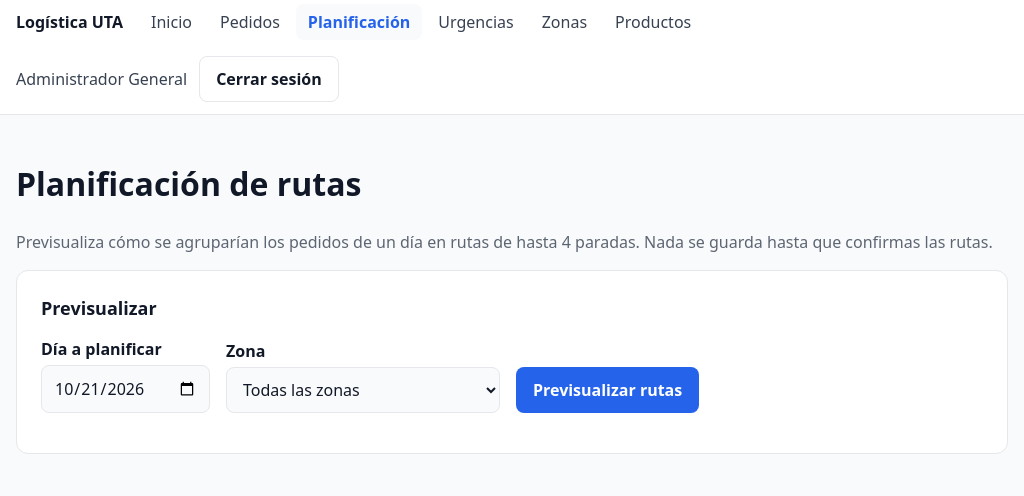
PlanningPage · previsualizar › exige elegir el día y no calcula sin él
Clear the date field labelled "Día a planificar" at [126, 389], box [41, 365, 210, 413]
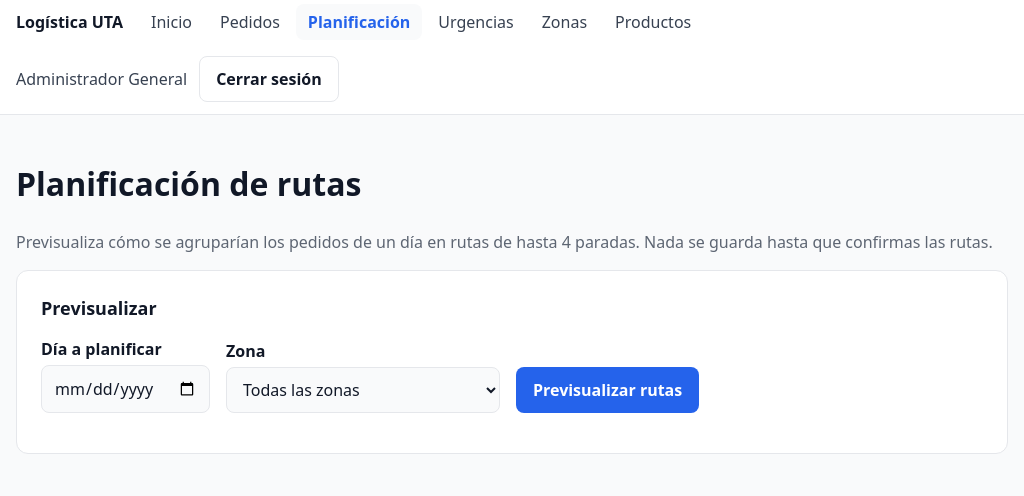
Click the button "Previsualizar rutas".
click(608, 390)  # box [516, 367, 699, 413]
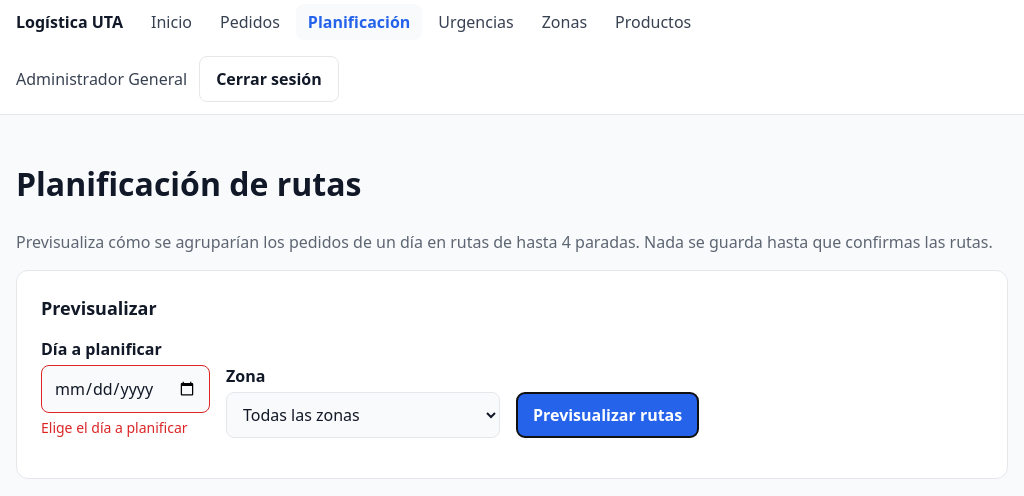
Now the text "Elige el día a planificar" is shown, box [41, 417, 210, 438]
